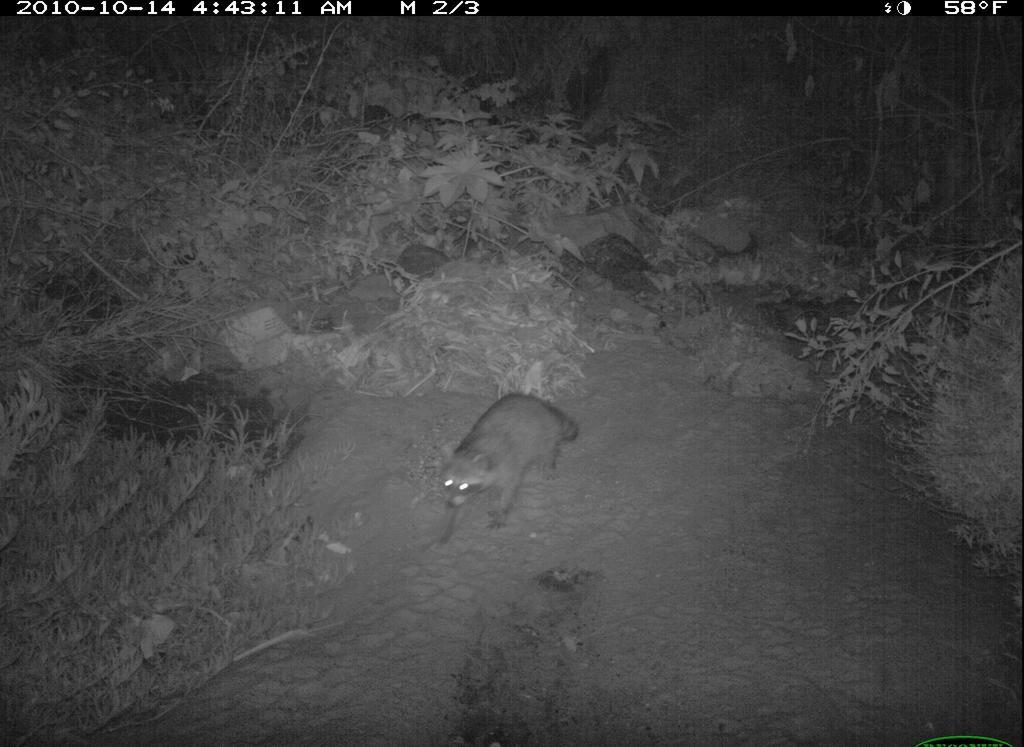raccoon: (423, 388, 591, 547)
